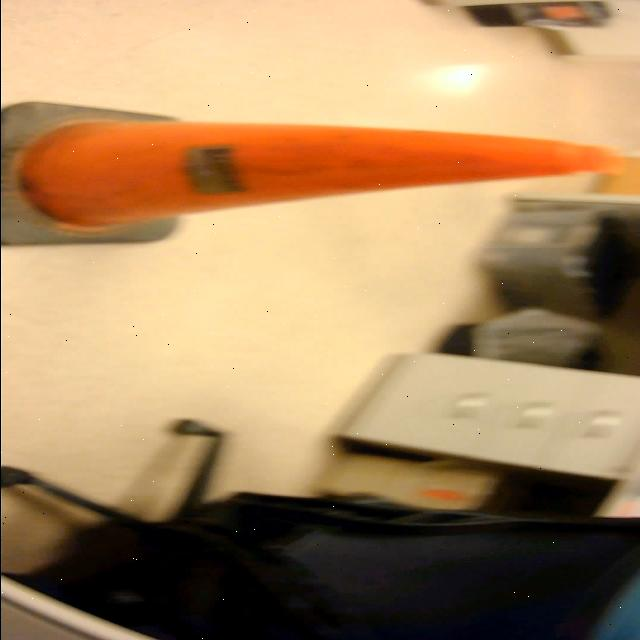traffic cone: (1, 98, 639, 254)
